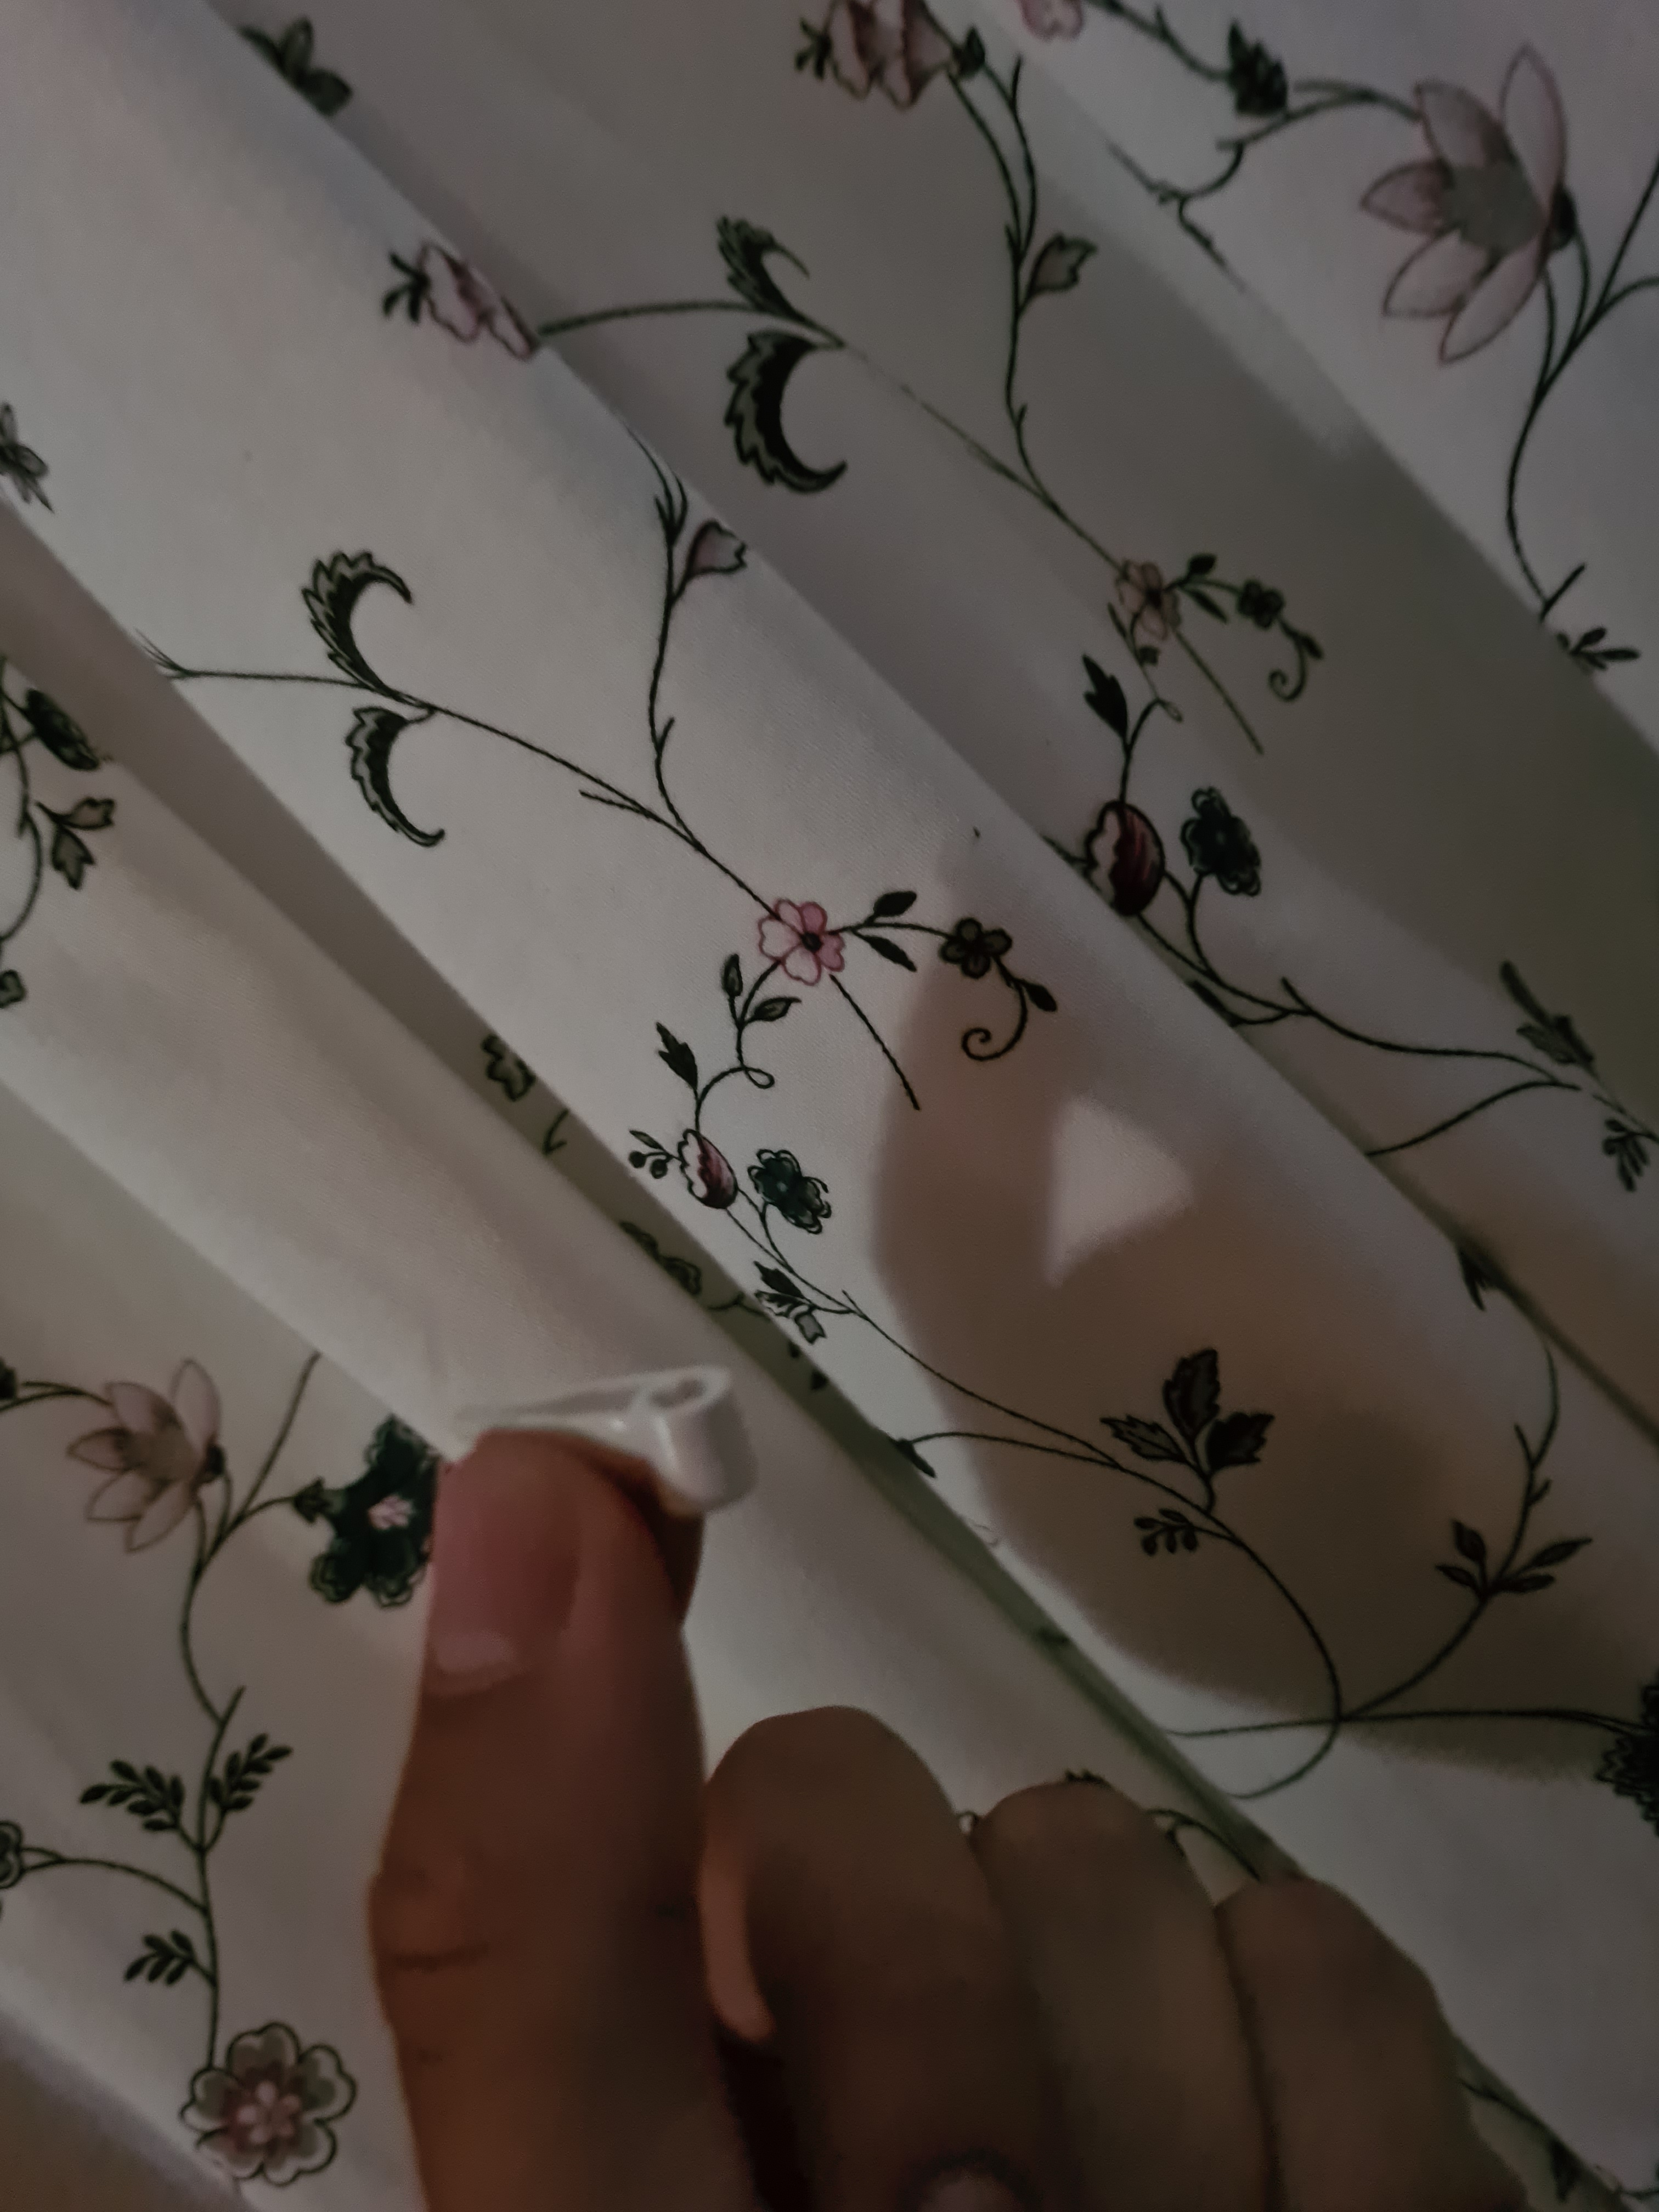Kappe: (450, 1362, 763, 1526)
